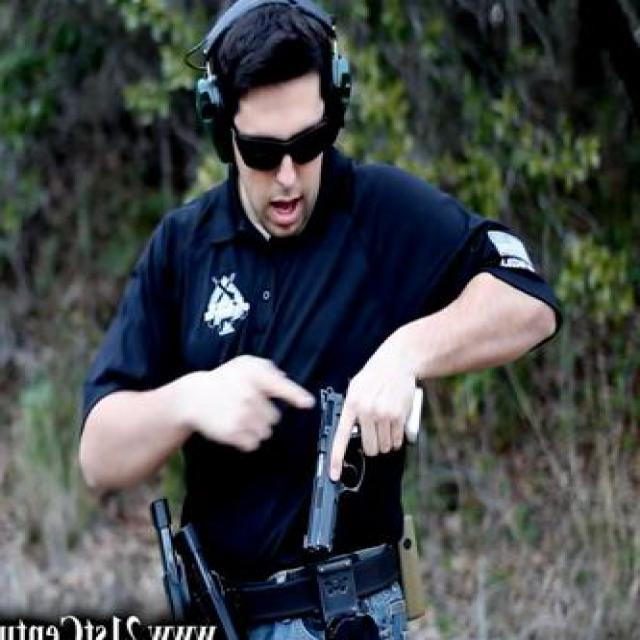Gun: (299, 382, 426, 552)
